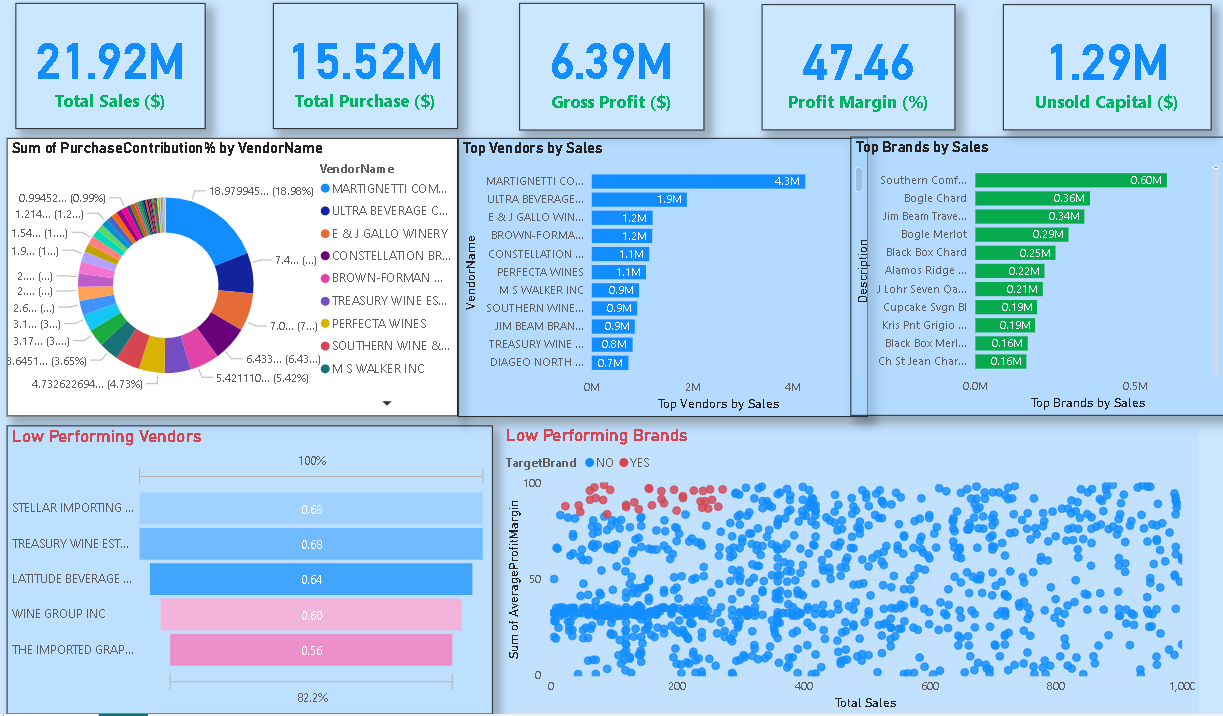

This screenshot's page, from the dashboard's own definition file:
{"tool":"powerbi","page":{"name":"Page 1","canvas":[1380,850],"ordinal":0},"visuals":[{"type":"card","fields":{"Values":["Sum(vendor_sales_summary.TotalSalesDollars)"]},"box":[19.7,50.6,213.6,141.9],"z":0},{"type":"card","fields":{"Values":["Sum(vendor_sales_summary.TotalPurchaseDollars)"]},"box":[309.2,50.6,208,141.9],"z":1},{"type":"card","fields":{"Values":["Sum(vendor_sales_summary.GrossProfit)"]},"box":[586.1,50.6,208,143.4],"z":2},{"type":"card","fields":{"Values":["Avg(vendor_sales_summary.ProfitMargin)"]},"box":[858.7,52,217.8,141.9],"z":3},{"type":"card","fields":{"Values":["Sum(vendor_sales_summary.UnsoldCapital)"]},"box":[1130,52,234.7,141.9],"z":4},{"type":"donutChart","fields":{"Category":["PurchaseContribution.VendorName"],"Y":["Sum(PurchaseContribution.PurchaseContribution%)"]},"box":[9.7,203,507.4,312.8],"z":5},{"type":"barChart","title":"Top Vendors by Sales","fields":{"Category":["vendor_sales_summary.VendorName"],"Y":["Sum(vendor_sales_summary.TotalSalesDollars)"]},"box":[517.2,202.4,461,313.4],"z":6},{"type":"barChart","title":"Top Brands by Sales","fields":{"Category":["vendor_sales_summary.Description"],"Y":["Sum(vendor_sales_summary.TotalSalesDollars)"]},"box":[958.5,201,421.6,313.4],"z":7},{"type":"funnel","title":"Low Performing Vendors","fields":{"Category":["LowTurnoverVendor.VendorName"],"Y":["Avg(LowTurnoverVendor.AvgStockTurnOver)"]},"box":[9.8,525.6,546.7,324.7],"z":8},{"type":"scatterChart","title":"Low Performing Brands","fields":{"Category":["BrandPerformance.Description"],"X":["Sum(BrandPerformance.TotalSales)"],"Y":["Sum(BrandPerformance.AverageProfitMargin)"],"Series":["BrandPerformance.TargetBrand"]},"box":[566.4,525.6,784.2,324.7],"z":9}]}

Visuals, with their boxes in screenshot pixels (x1, y1, x2, y2):
card - Sum(vendor_sales_summary.TotalSalesDollars): l=11, t=1, r=202, b=127
card - Sum(vendor_sales_summary.TotalPurchaseDollars): l=270, t=1, r=456, b=127
card - Sum(vendor_sales_summary.GrossProfit): l=517, t=1, r=703, b=129
card - Avg(vendor_sales_summary.ProfitMargin): l=761, t=2, r=956, b=129
card - Sum(vendor_sales_summary.UnsoldCapital): l=1003, t=2, r=1213, b=129
donutChart - PurchaseContribution.VendorName x Sum(PurchaseContribution.PurchaseContribution%): l=2, t=137, r=456, b=416
"Top Vendors by Sales" barChart: l=456, t=136, r=868, b=416
"Top Brands by Sales" barChart: l=850, t=135, r=1222, b=415
"Low Performing Vendors" funnel: l=2, t=425, r=491, b=715
"Low Performing Brands" scatterChart: l=500, t=425, r=1201, b=715
